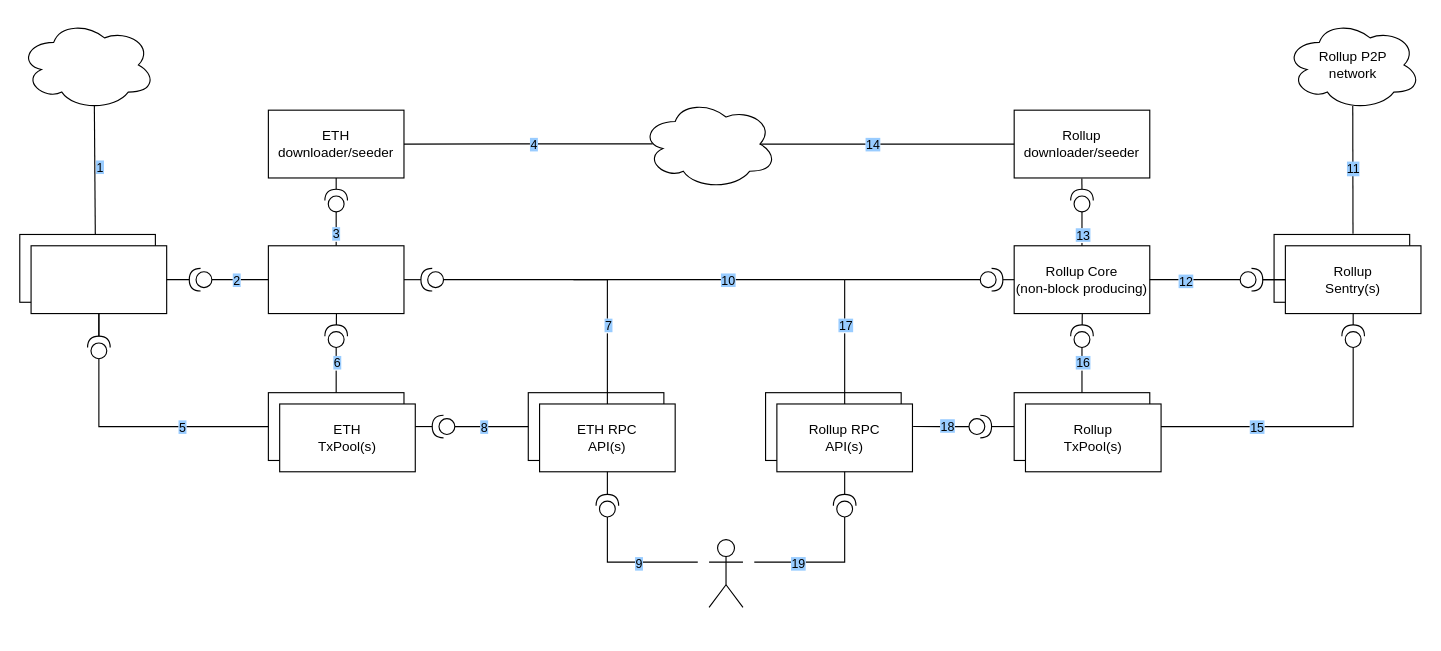
This 1441x651 diagram has some shape labels left out. The shapes that lost their labels are listed below. From the top down, each one's centre as x and y in pixels, then its label:
point (87, 64): ETH P2P network
point (708, 143): BitTorrent P2P network
point (98, 279): ETH Sentry(s)
point (335, 279): ETH Core
point (725, 572): API User
